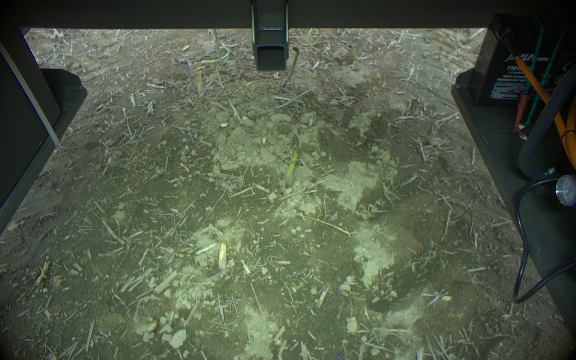aspa: (280, 43, 300, 92), (283, 133, 300, 185), (201, 43, 230, 66), (212, 28, 222, 68), (194, 69, 206, 96)
